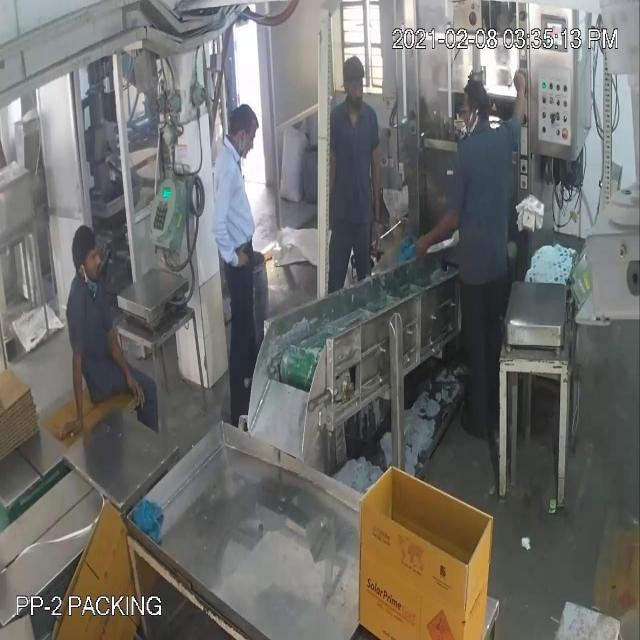No_Gloves: (24, 56, 519, 394)
